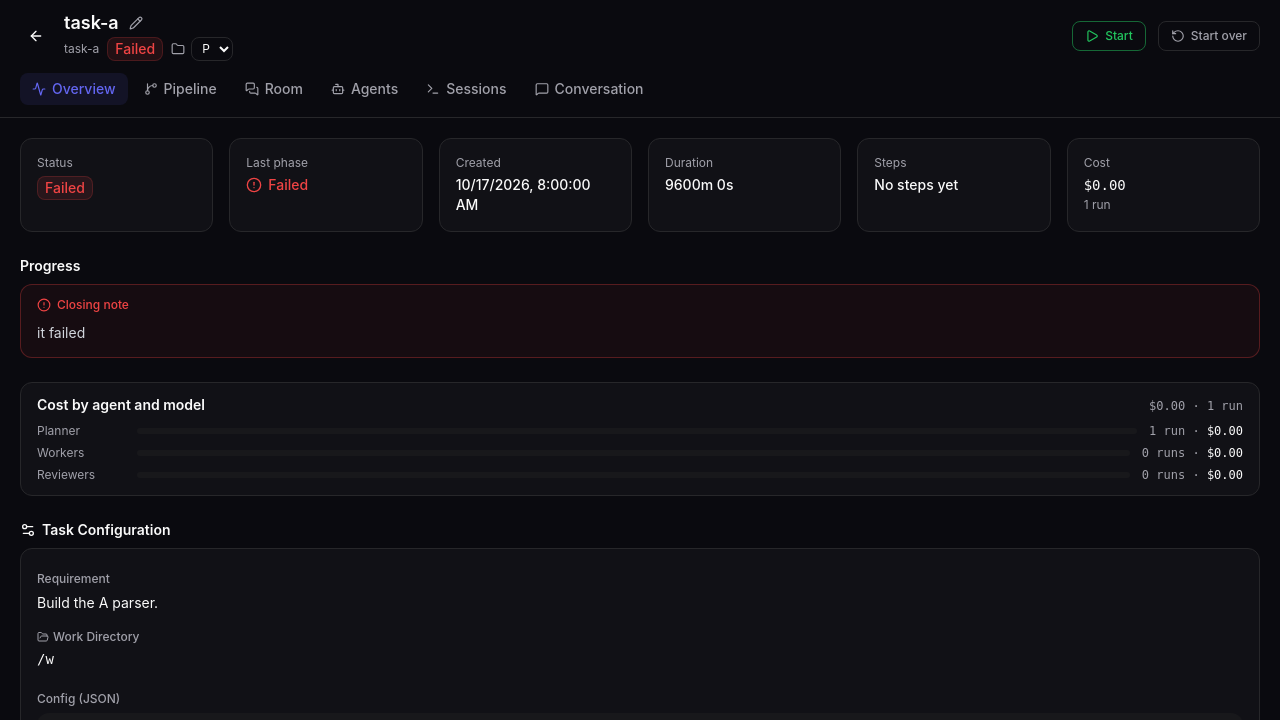
Test: TaskDetailRoute › confirms restart across reads: fast completion
What coordinates should you click on to do the following:
click the tab "Sessions"
I would click on:
 (466, 88)
Its box is [414,72,518,104].
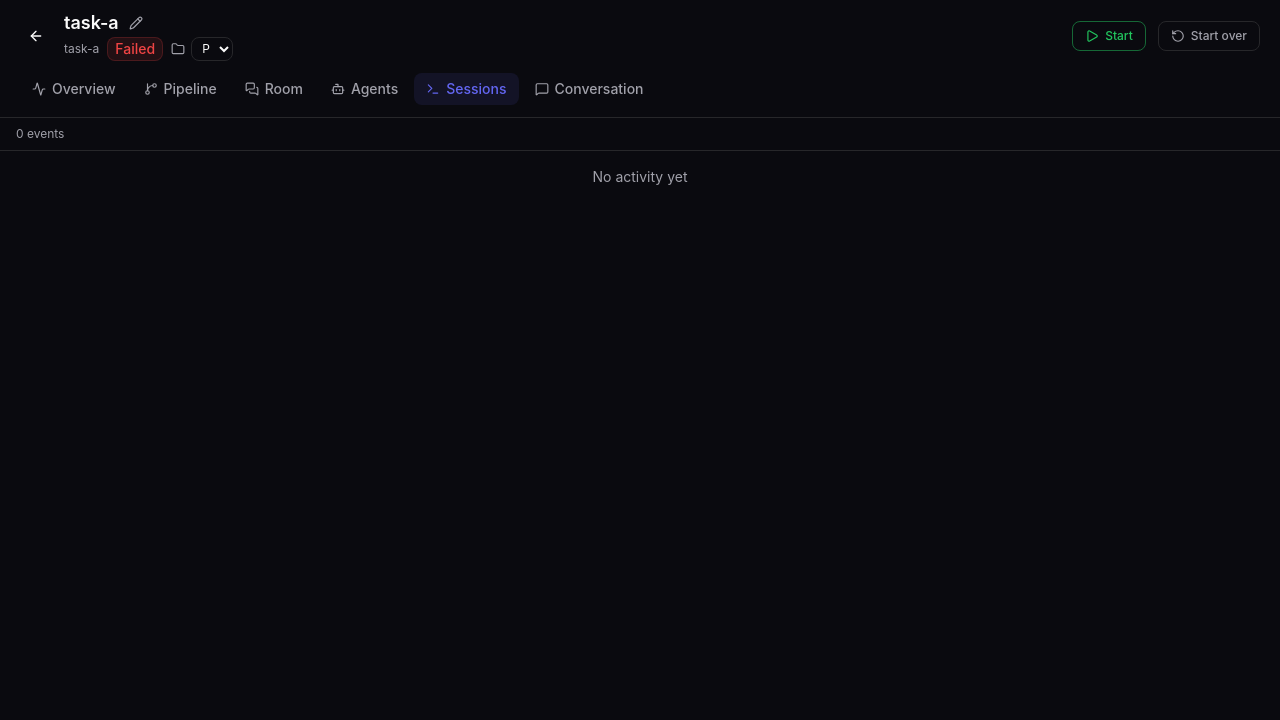
What coordinates should you click on to do the following:
click the button "Start"
I would click on:
 (1109, 36)
Its box is [1072,21,1146,51].
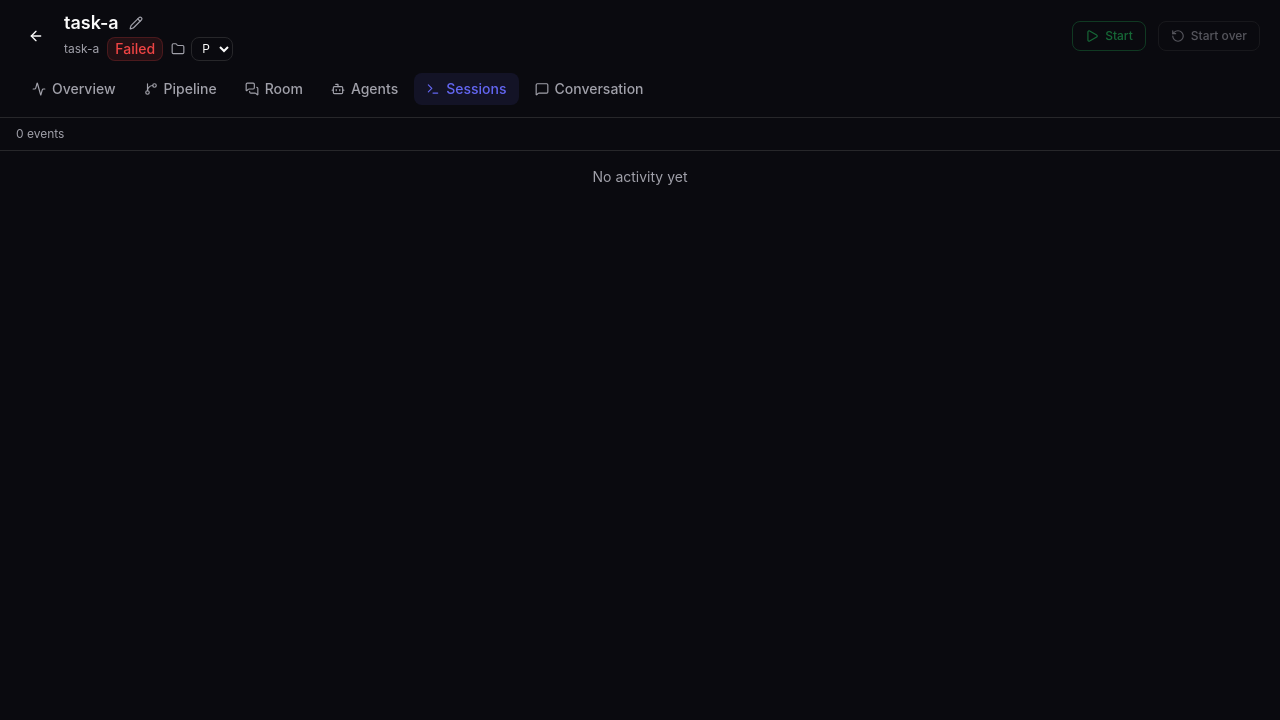
Result: the button "Start" is disabled at [1072,21,1146,51]
Result: the button "Start over" is disabled
What coordinates should you click on to do the following:
click the button "Start over"
I would click on:
 (1209, 36)
Its box is [1158,21,1260,51].
Wait 8000 ms
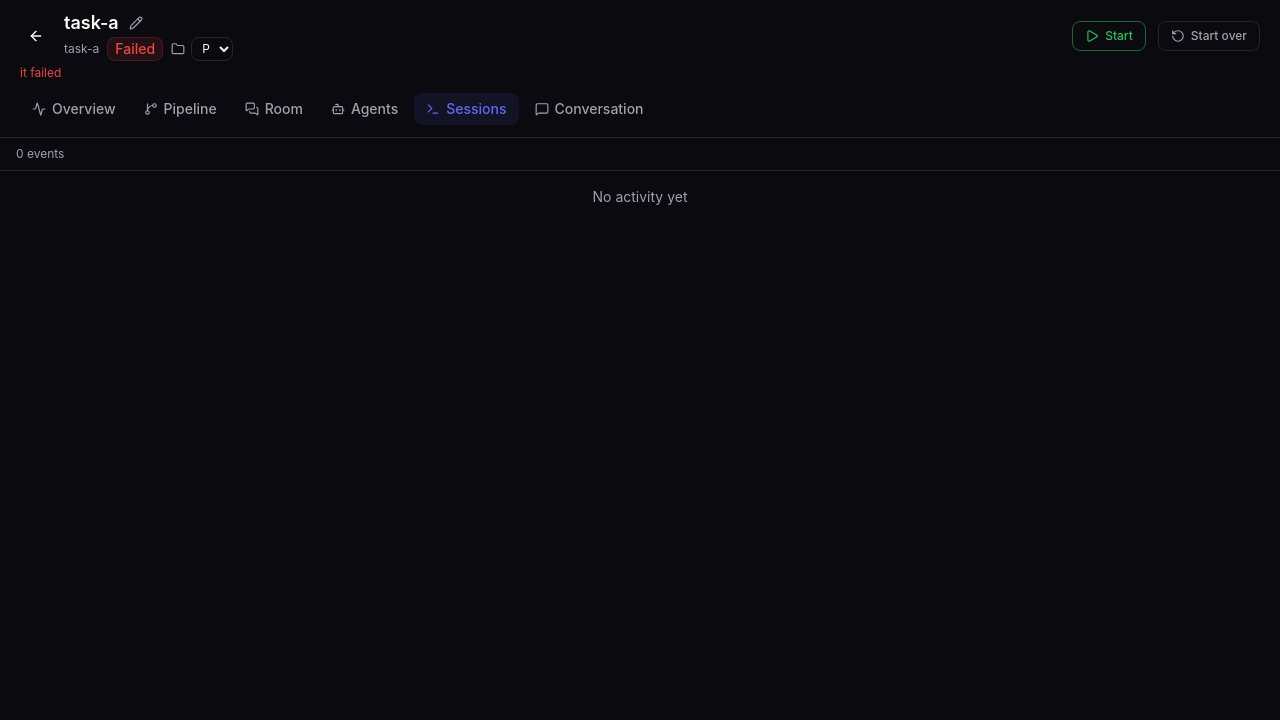
Result: the button "Start" is enabled at [1072,21,1146,51]
